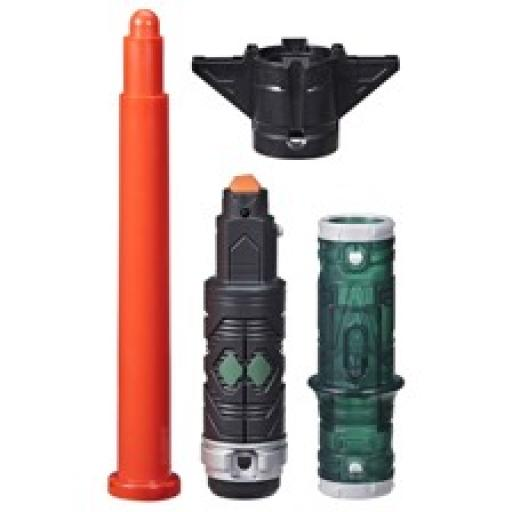lightsaber: (117, 9, 182, 499), (203, 170, 285, 499)
